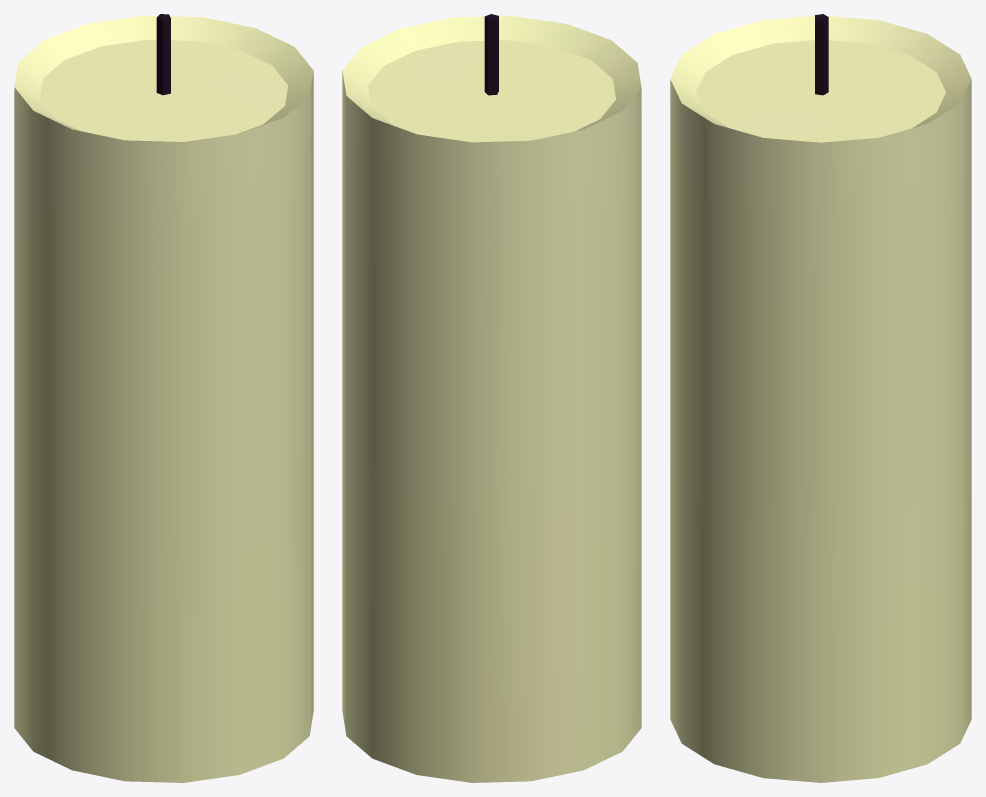
File: Candle 1.fbx
The picture shows the model from 3 angles, left to right: view 1: azimuth 30°, elevation 25°; view 2: azimuth 150°, elevation 25°; view 3: azimuth 270°, elevation 25°; orthographic projection.
Parts seen in each view (by area): view 1: Cylinder; view 2: Cylinder; view 3: Cylinder.
Part boxes in pixels (box(x1,y1,x2,y2)): Cylinder: box(14, 14, 313, 782); Cylinder: box(342, 14, 641, 782); Cylinder: box(670, 14, 971, 782).
Bounding box in the file's own units: 141 × 362 × 141.
Materials: 1 (1 with a texture image).
